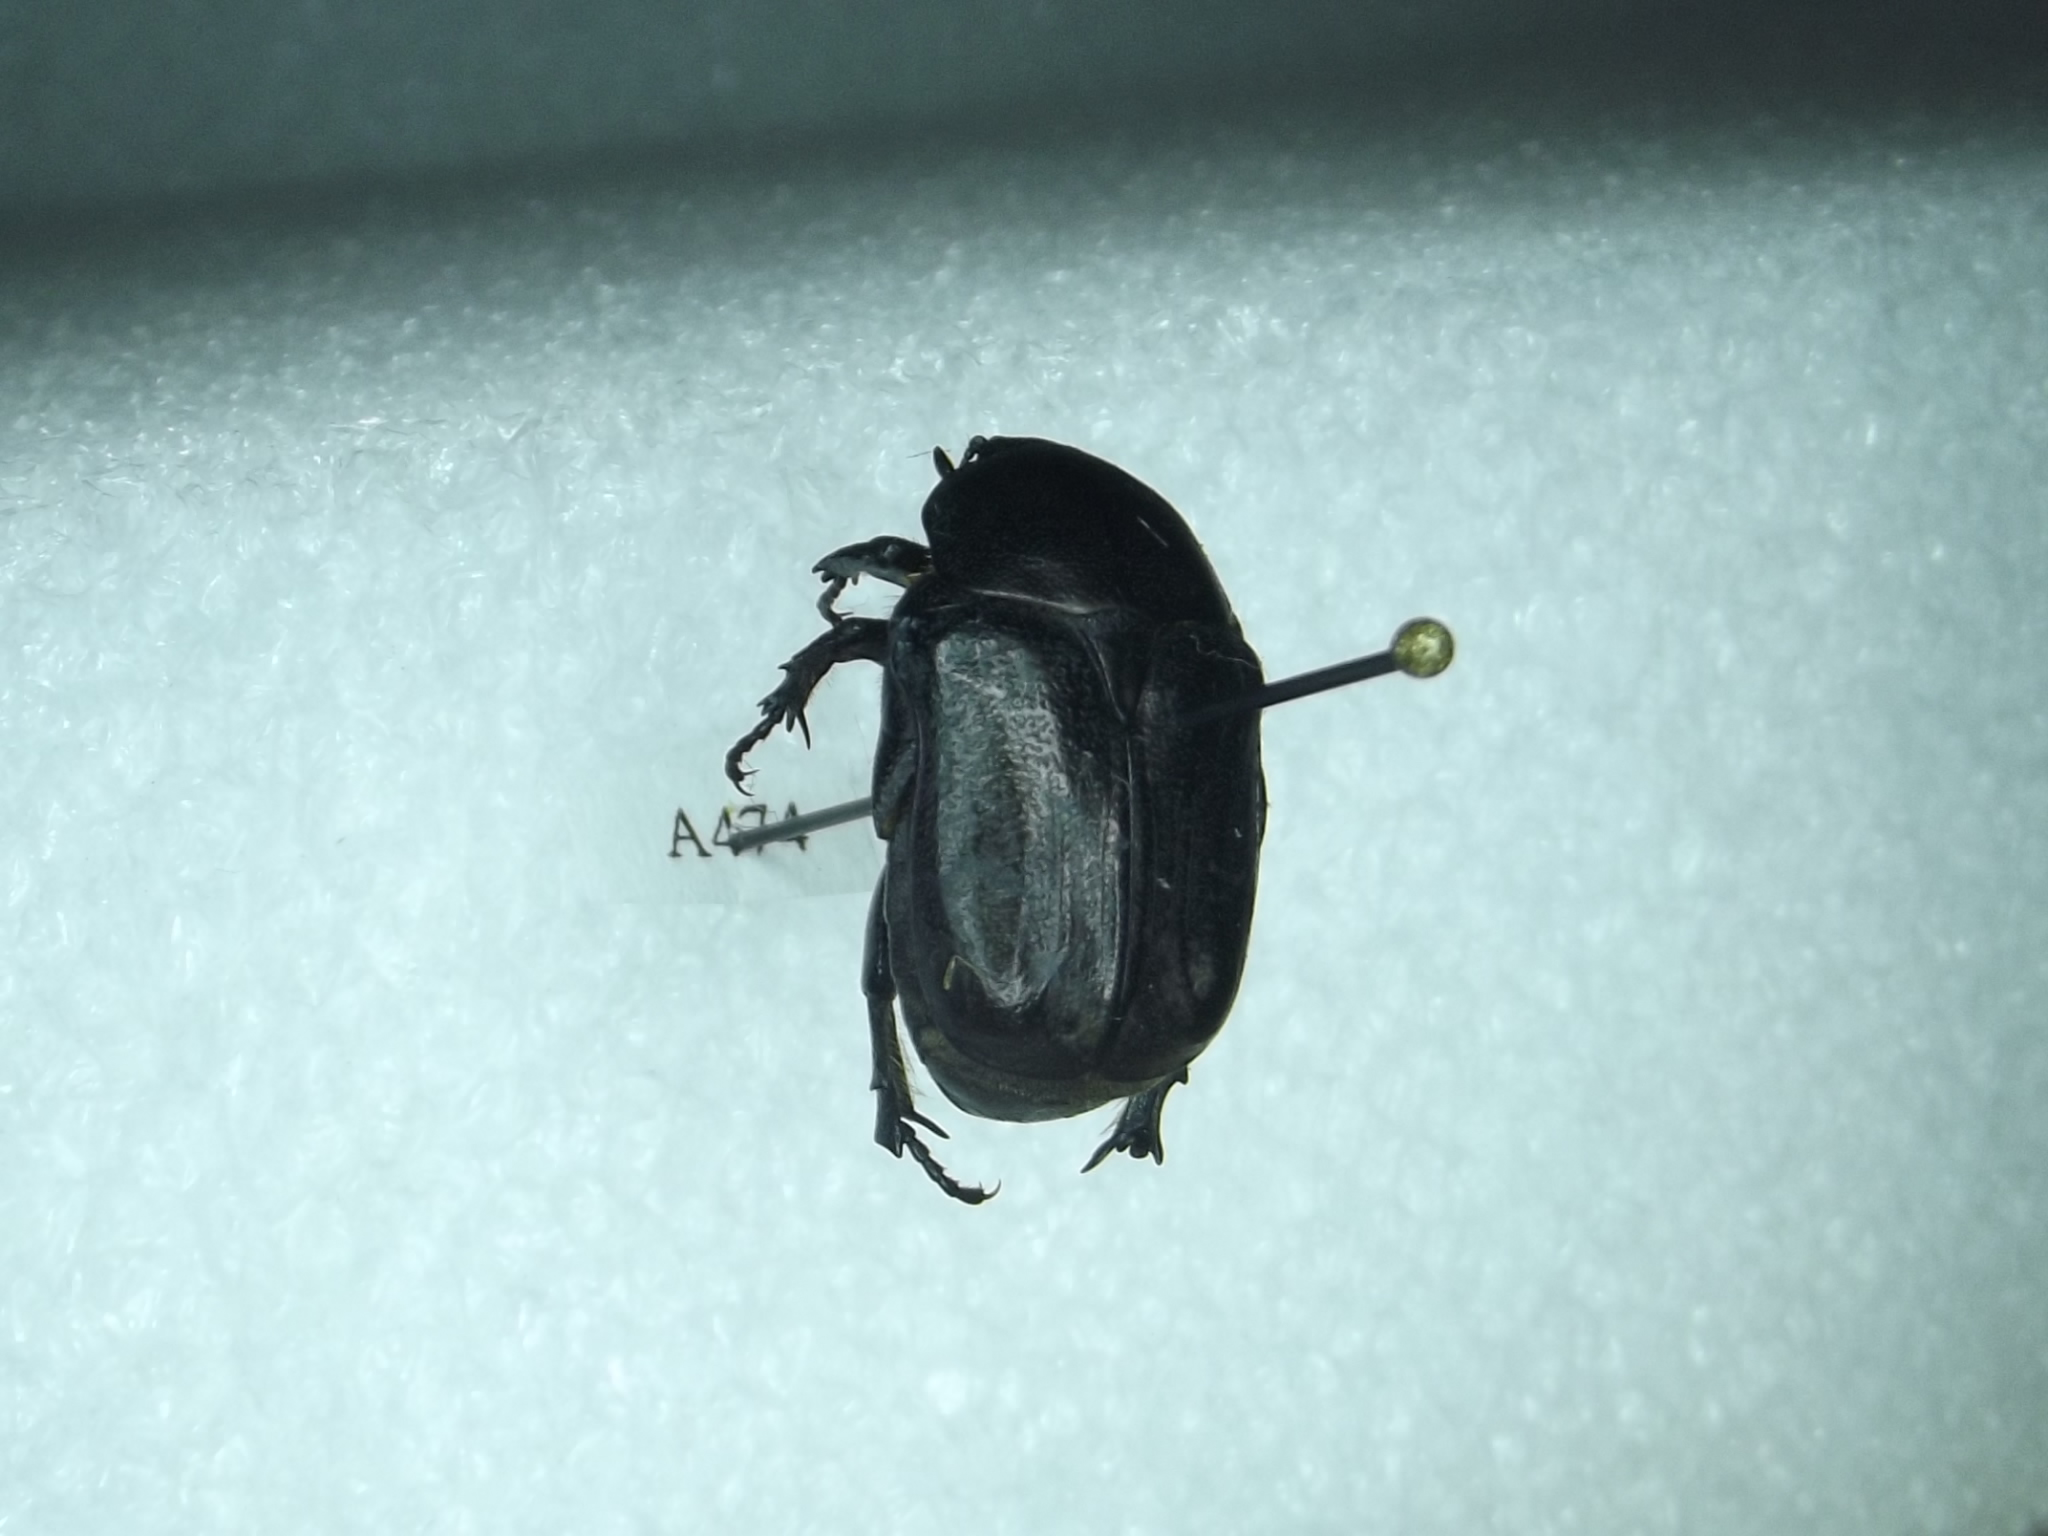Protaetia_vidua: (697, 405, 1292, 1226)
